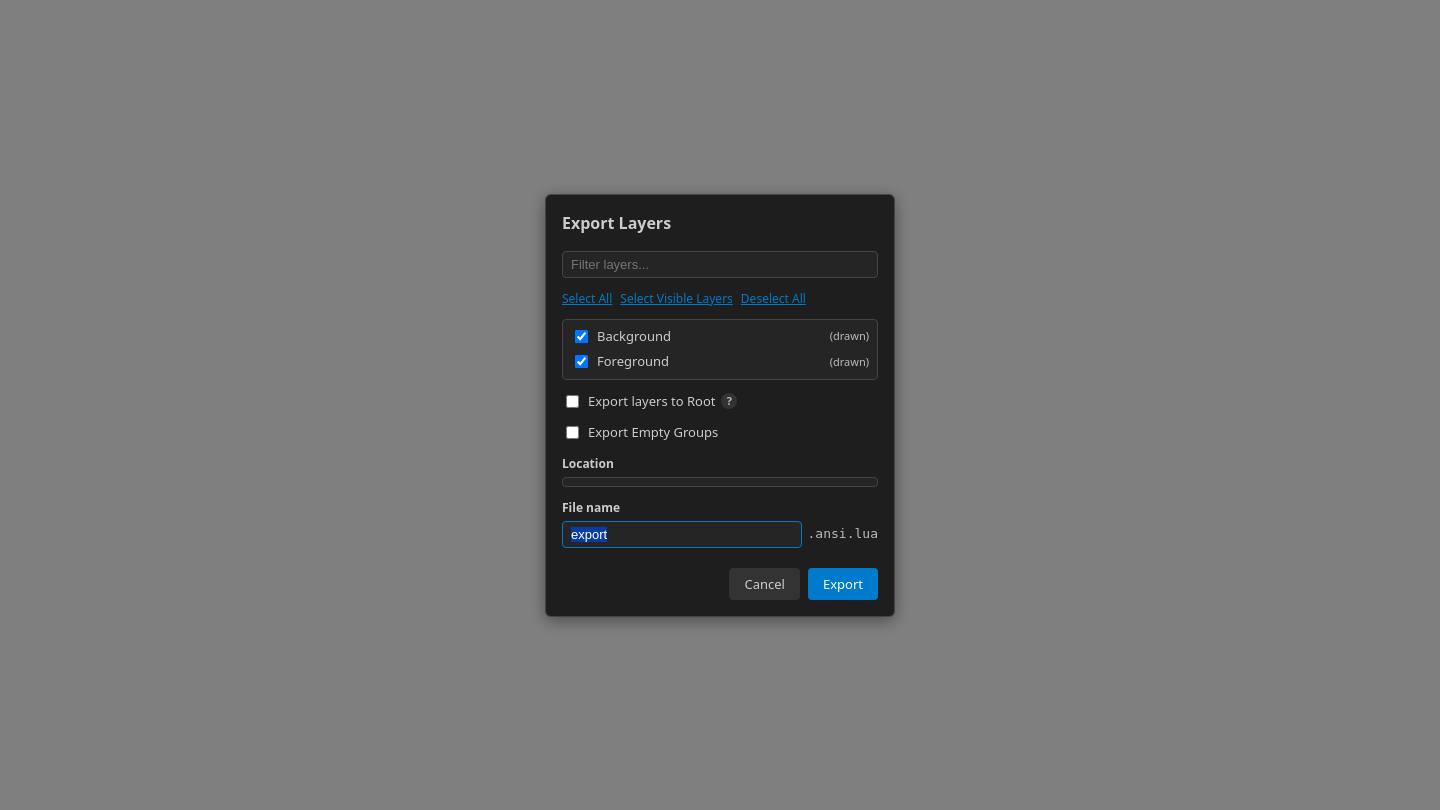
Scenario: ExportLayersDialog › filter input filters layer list
Type "back" into the field with test id "export-filter-input" at point(720, 264), box [562,250,878,278]
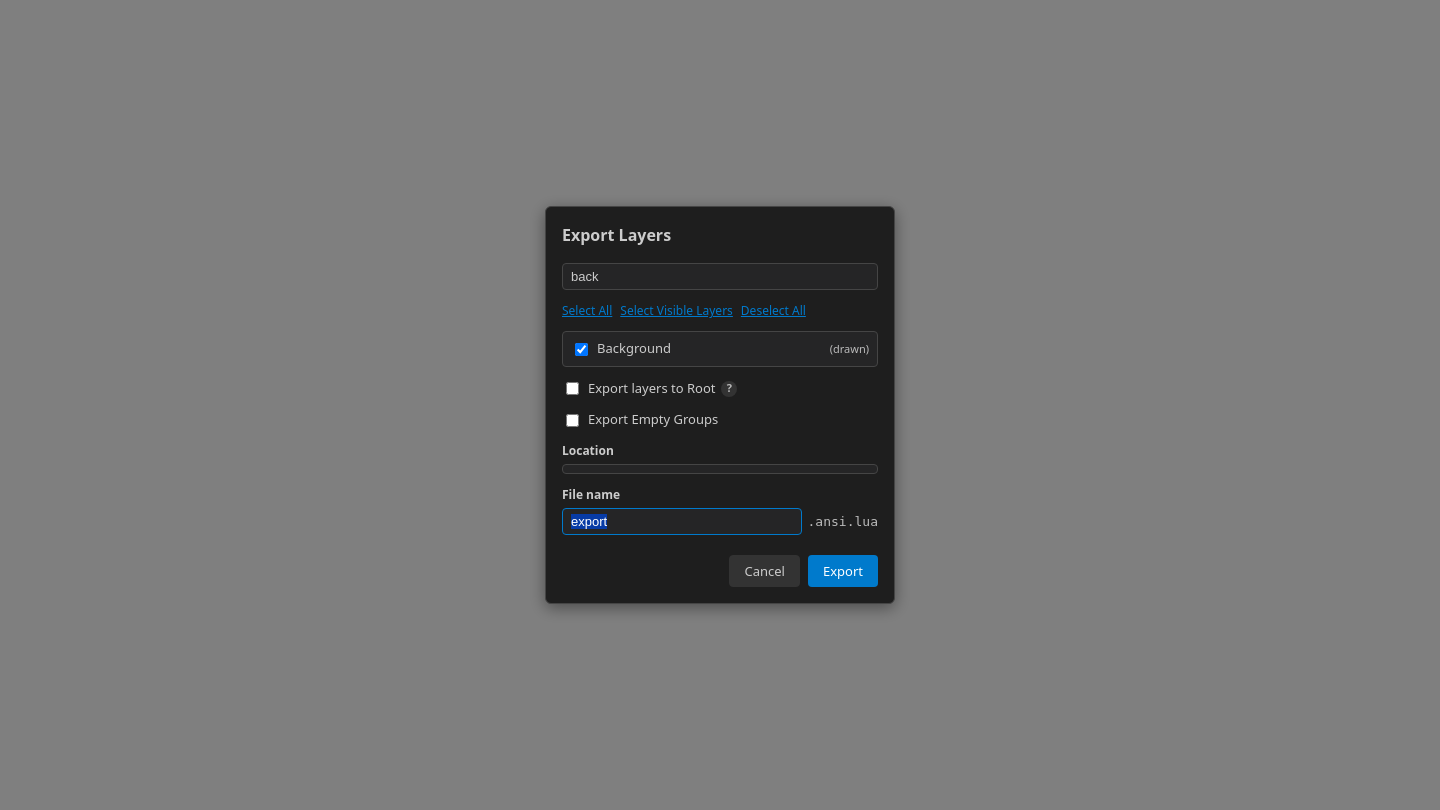
Expected: the text "Background" is shown, [597,339,671,359]
Now the text "Foreground" is gone
